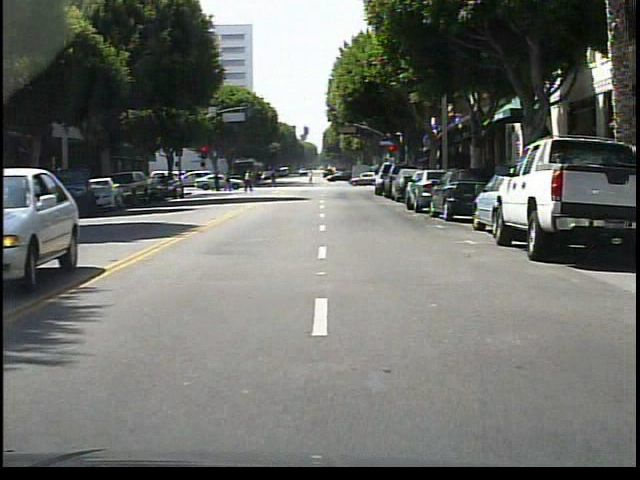person: (241, 166, 261, 195)
